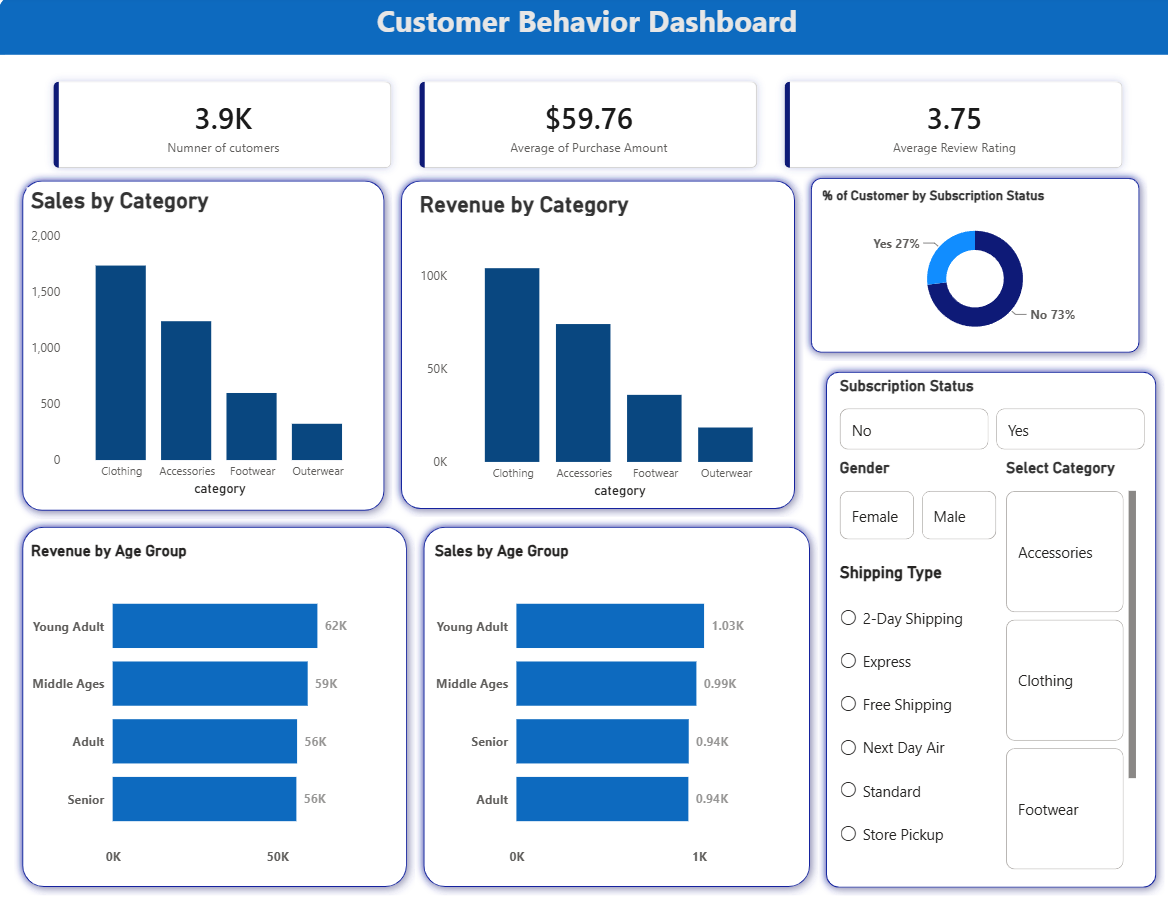

The page's visual inventory and layout, read from the dashboard file:
{"tool":"powerbi","page":{"name":"Page 1","canvas":[1280,1000],"ordinal":0},"visuals":[{"type":"shape","box":[891.8,400,377.6,579.6],"z":0},{"type":"cardVisual","fields":{"Data":["public customer_shopping.Numner of cutomers","public customer_shopping.Average of Purchase Amount","public customer_shopping.Average Review Rating"]},"box":[30.8,65.4,1221.8,150],"z":1000},{"type":"shape","box":[0,0,1280,64],"z":2000},{"type":"textbox","box":[0,0,1280.7,52.6],"z":3000},{"type":"shape","box":[875.5,189.8,375.5,208.2],"z":4000},{"type":"donutChart","title":"% of Customer by Subscription Status","fields":{"Category":["public customer_shopping.subscription_status"],"Y":["CountNonNull(public customer_shopping.customer_id)"]},"box":[891.8,208.2,342.9,171.4],"z":5000},{"type":"shape","box":[16.3,191.8,412.2,377.6],"z":6000},{"type":"shape","box":[428.6,191.8,446.9,375.5],"z":7000},{"type":"clusteredColumnChart","title":"Revenue by Category ","fields":{"Y":["Sum(public customer_shopping.purchase_amount)"],"Category":["public customer_shopping.category"]},"box":[453.1,212.2,406.1,338.8],"z":8000},{"type":"clusteredColumnChart","title":"Sales by Category","fields":{"Category":["public customer_shopping.category"],"Y":["CountNonNull(public customer_shopping.customer_id)"]},"box":[30.6,208.2,379.6,340.8],"z":9000},{"type":"advancedSlicerVisual","title":"Subscription Status","fields":{"Values":["public customer_shopping.subscription_status"]},"box":[910.2,414.3,342.9,85.7],"z":10000},{"type":"advancedSlicerVisual","title":"Gender","fields":{"Values":["public customer_shopping.gender"]},"box":[910.2,504.1,181.6,93.9],"z":11000},{"type":"advancedSlicerVisual","title":"Select Category","fields":{"Values":["public customer_shopping.category"]},"box":[1091.8,504.1,151,453.1],"z":12000},{"type":"listSlicer","title":"Shipping Type","fields":{"Values":["public customer_shopping.shipping_type"]},"box":[910.2,616.3,181.6,340.8],"z":13000},{"type":"shape","box":[16.3,569.4,436.7,410.2],"z":14000},{"type":"clusteredBarChart","title":"Revenue by Age Group","fields":{"Y":["Sum(public customer_shopping.purchase_amount)"],"Category":["public customer_shopping.age_group"]},"box":[30.6,593.9,398,363.3],"z":15000},{"type":"shape","box":[453.1,569.4,438.8,410.2],"z":16000},{"type":"clusteredBarChart","title":"Sales by Age Group","fields":{"Category":["public customer_shopping.age_group"],"Y":["CountNonNull(public customer_shopping.customer_id)"]},"box":[469.4,593.9,406.1,363.3],"z":17000}]}

Visuals, with their boxes in screenshot pixels (x1, y1, x2, y2), scaled from the page's 1280x1000 canvas onto the 1168x907 screenshot:
shape: box=[814, 363, 1158, 888]
cardVisual - public customer_shopping.Numner of cutomers x public customer_shopping.Average of Purchase Amount: box=[28, 59, 1143, 195]
shape: box=[0, 0, 1167, 58]
textbox: box=[0, 0, 1167, 48]
shape: box=[799, 172, 1142, 361]
"% of Customer by Subscription Status" donutChart: box=[814, 189, 1127, 344]
shape: box=[15, 174, 391, 516]
shape: box=[391, 174, 799, 515]
"Revenue by Category " clusteredColumnChart: box=[413, 192, 784, 500]
"Sales by Category" clusteredColumnChart: box=[28, 189, 374, 498]
"Subscription Status" advancedSlicerVisual: box=[831, 376, 1143, 454]
"Gender" advancedSlicerVisual: box=[831, 457, 996, 542]
"Select Category" advancedSlicerVisual: box=[996, 457, 1134, 868]
"Shipping Type" listSlicer: box=[831, 559, 996, 868]
shape: box=[15, 516, 413, 888]
"Revenue by Age Group" clusteredBarChart: box=[28, 539, 391, 868]
shape: box=[413, 516, 814, 888]
"Sales by Age Group" clusteredBarChart: box=[428, 539, 799, 868]
